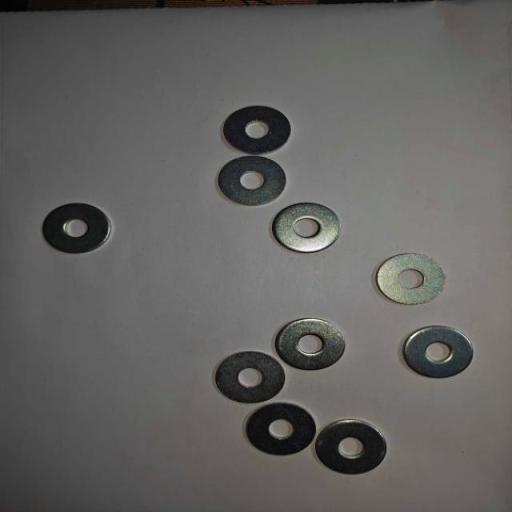washer: (315, 418, 387, 475), (402, 324, 474, 379), (246, 401, 316, 457), (275, 317, 346, 371), (215, 350, 286, 403), (376, 253, 446, 306), (272, 201, 341, 254), (42, 203, 112, 254), (222, 104, 292, 154), (218, 155, 286, 206)
